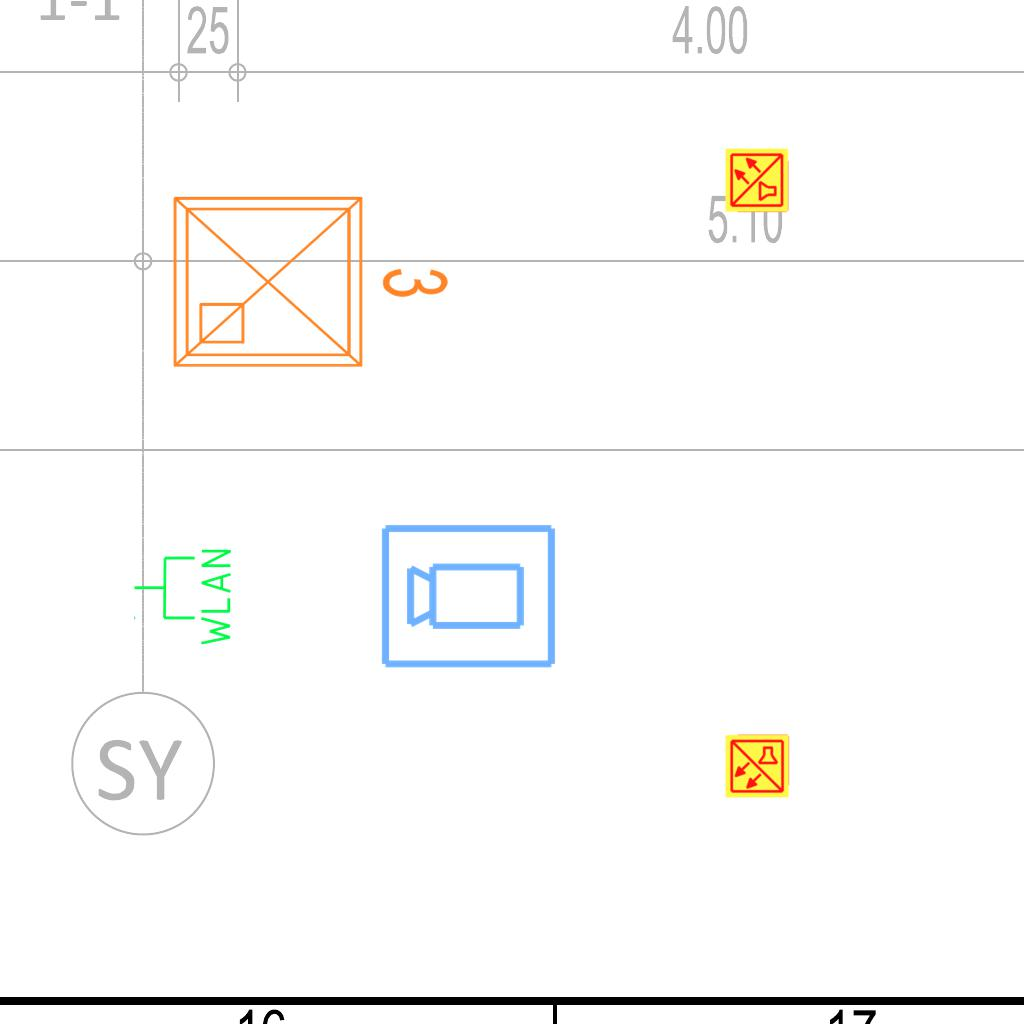Einbaudownlights_LED_Konferenzraeume: (159, 174, 459, 382)
KFO_Kamera_mit_Festobjektiv: (378, 518, 560, 672)
OKW_Multisensormelder_(Kombination_optischer_Rauch-Kahlenmonoxid_Waerme-Melder): (724, 733, 790, 799), (724, 147, 790, 213)
WLAN: (131, 545, 235, 650)
